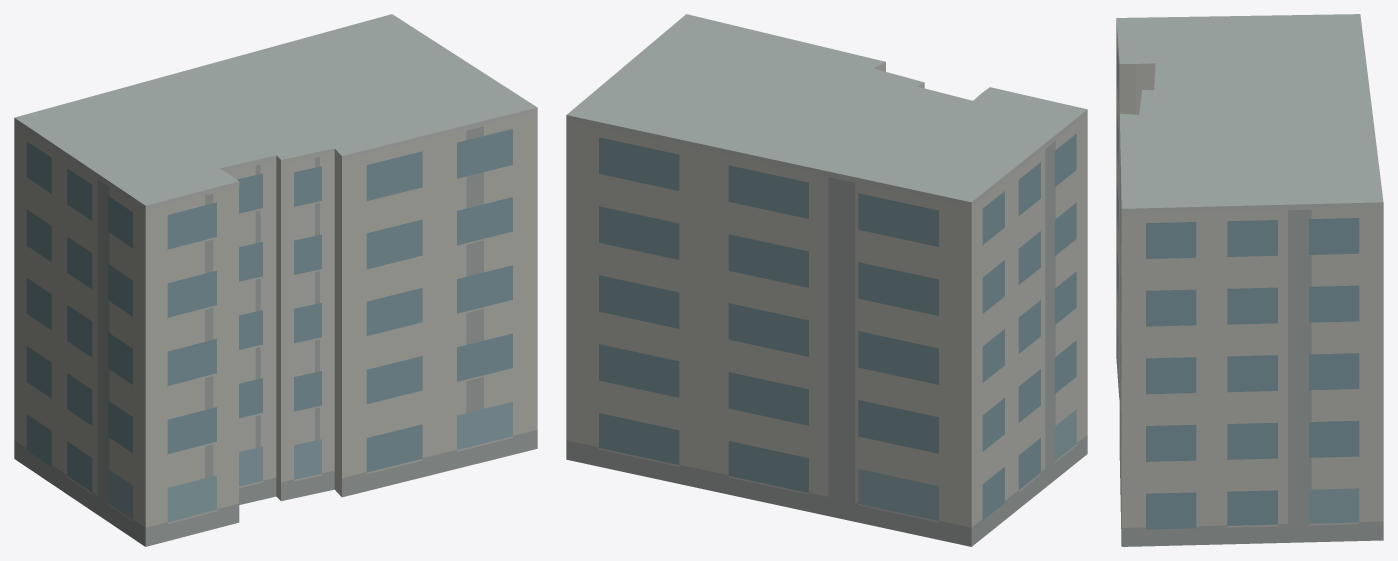
Rendered from survey-upis-32747113.glb.
The picture shows the model from 3 angles, left to right: view 1: azimuth 30°, elevation 25°; view 2: azimuth 150°, elevation 25°; view 3: azimuth 270°, elevation 25°; orthographic projection.
Visible parts, largest first — view 1: survey-upis-32747113.tmp; view 2: survey-upis-32747113.tmp; view 3: survey-upis-32747113.tmp.
Part boxes in pixels (box(x1,y1,x2,y2)): survey-upis-32747113.tmp: box(14, 14, 537, 546); survey-upis-32747113.tmp: box(566, 14, 1087, 546); survey-upis-32747113.tmp: box(1116, 14, 1383, 546).
Bounding box in the file's own units: 18.54 × 15 × 10.75.
